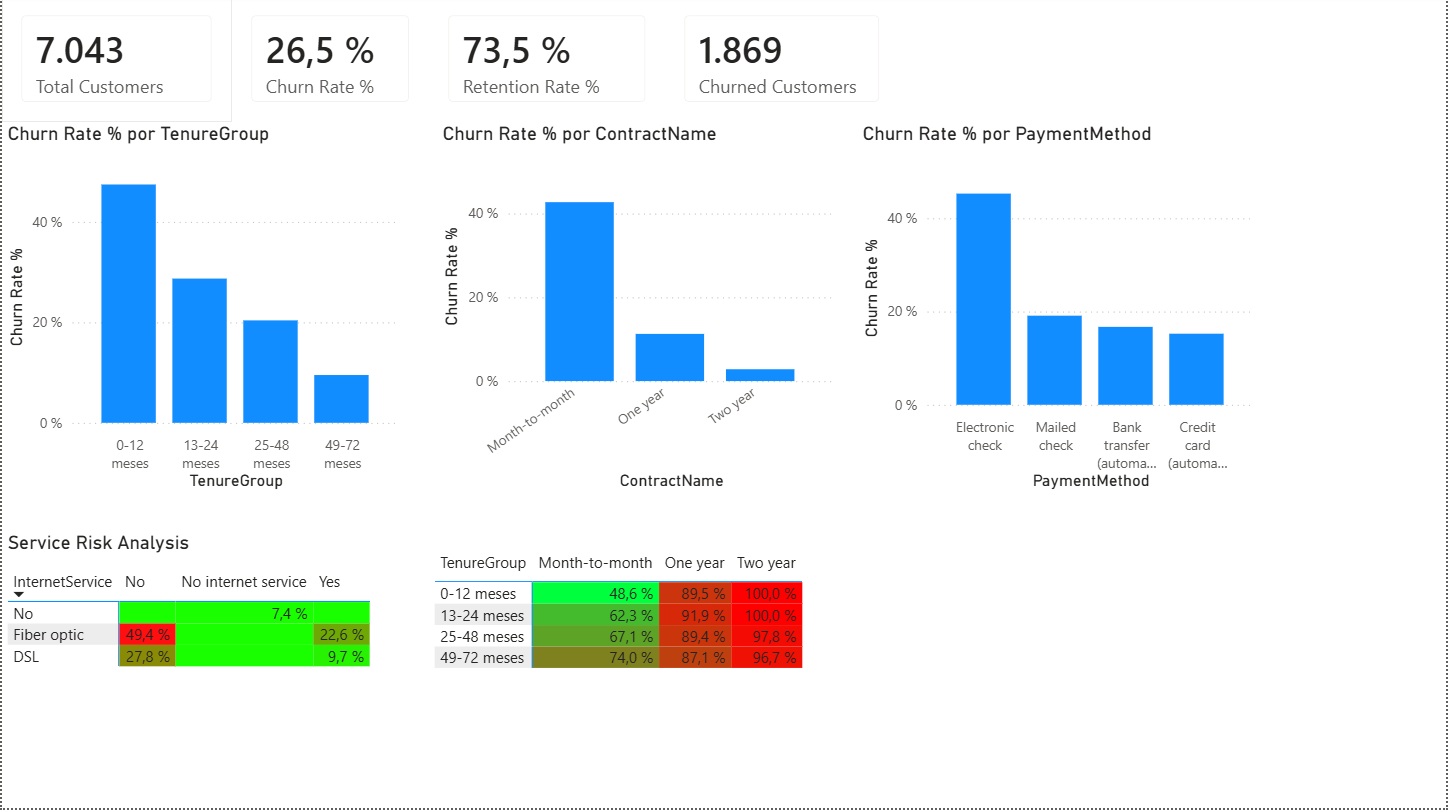

The dashboard page shown, as its layout file describes it:
{"tool":"powerbi","page":{"name":"Página 1","canvas":[1280,720],"ordinal":0},"visuals":[{"type":"shape","box":[0,0,1280,103],"z":0},{"type":"cardVisual","title":"Total customers","fields":{"Data":["FactCustomerChurn.Total Customers Display"]},"box":[7.8,107.1,300.8,87.6],"z":1000},{"type":"cardVisual","title":"Churned Customers","fields":{"Data":["FactCustomerChurn.Churned Customers Display"]},"box":[963.6,106.7,308.6,88.3],"z":2000},{"type":"cardVisual","title":"Churn Rate","fields":{"Data":["FactCustomerChurn.Churn Rate %"]},"box":[316.3,107.1,316.1,87.5],"z":3000},{"type":"cardVisual","title":"Retention Rate","fields":{"Data":["FactCustomerChurn.Retention Rate %"]},"box":[647.3,107.1,300.5,87.5],"z":4000},{"type":"clusteredColumnChart","title":"Churn by Tenure","fields":{"Category":["DimTenure.TenureGroup"],"Y":["FactCustomerChurn.Churn Rate %"]},"box":[7.8,202.5,624.9,204.4],"z":5000},{"type":"clusteredColumnChart","title":"Churn by Payment Method","fields":{"Category":["DimContract.ContractName"],"Y":["FactCustomerChurn.Churn Rate %"]},"box":[7.8,416.6,624.9,157.7],"z":6000},{"type":"clusteredColumnChart","title":"Churn by Contract","fields":{"Category":["DimPayment.PaymentMethod"],"Y":["FactCustomerChurn.Churn Rate %"]},"box":[647.3,202.5,624.9,204.4],"z":7000},{"type":"pivotTable","title":"Service Risk Analysis","fields":{"Rows":["DimService.InternetService"],"Columns":["DimService.TechSupport"],"Values":["FactCustomerChurn.Churn Rate %"]},"box":[647.3,416.6,624.9,157.7],"z":8000},{"type":"pivotTable","title":"Retention Rate by Tenure & Contract","fields":{"Rows":["DimTenure.TenureGroup"],"Columns":["DimContract.ContractName"],"Values":["FactCustomerChurn.Retention Rate %"]},"box":[7.8,580.3,1264.5,139.7],"z":9000},{"type":"textbox","box":[140.2,56.5,500.3,43.8],"z":10000},{"type":"textbox","box":[140.2,1,565.5,55.5],"z":11000},{"type":"slicer","fields":{"Values":["DimContract.ContractName"]},"box":[705.7,14.6,181,62.3],"z":12000},{"type":"slicer","fields":{"Values":["DimPayment.PaymentMethod"]},"box":[886.8,14.6,181,62.3],"z":13000},{"type":"slicer","fields":{"Values":["DimService.InternetService"]},"box":[1067.8,14.6,181,62.3],"z":14000},{"type":"image","box":[32.1,14.6,72,71.1],"z":15000}]}

Visuals, with their boxes in screenshot pixels (x1, y1, x2, y2), scaled from the page's 1280x720 canvas onto the 1450x810 screenshot:
shape: 0:0:1449:116
"Total customers" cardVisual: 9:120:350:219
"Churned Customers" cardVisual: 1092:120:1441:219
"Churn Rate" cardVisual: 358:120:716:219
"Retention Rate" cardVisual: 733:120:1074:219
"Churn by Tenure" clusteredColumnChart: 9:228:717:458
"Churn by Payment Method" clusteredColumnChart: 9:469:717:646
"Churn by Contract" clusteredColumnChart: 733:228:1441:458
"Service Risk Analysis" pivotTable: 733:469:1441:646
"Retention Rate by Tenure & Contract" pivotTable: 9:653:1441:809
textbox: 159:64:726:113
textbox: 159:1:799:64
slicer - DimContract.ContractName: 799:16:1004:87
slicer - DimPayment.PaymentMethod: 1005:16:1210:87
slicer - DimService.InternetService: 1210:16:1415:87
image: 36:16:118:96
